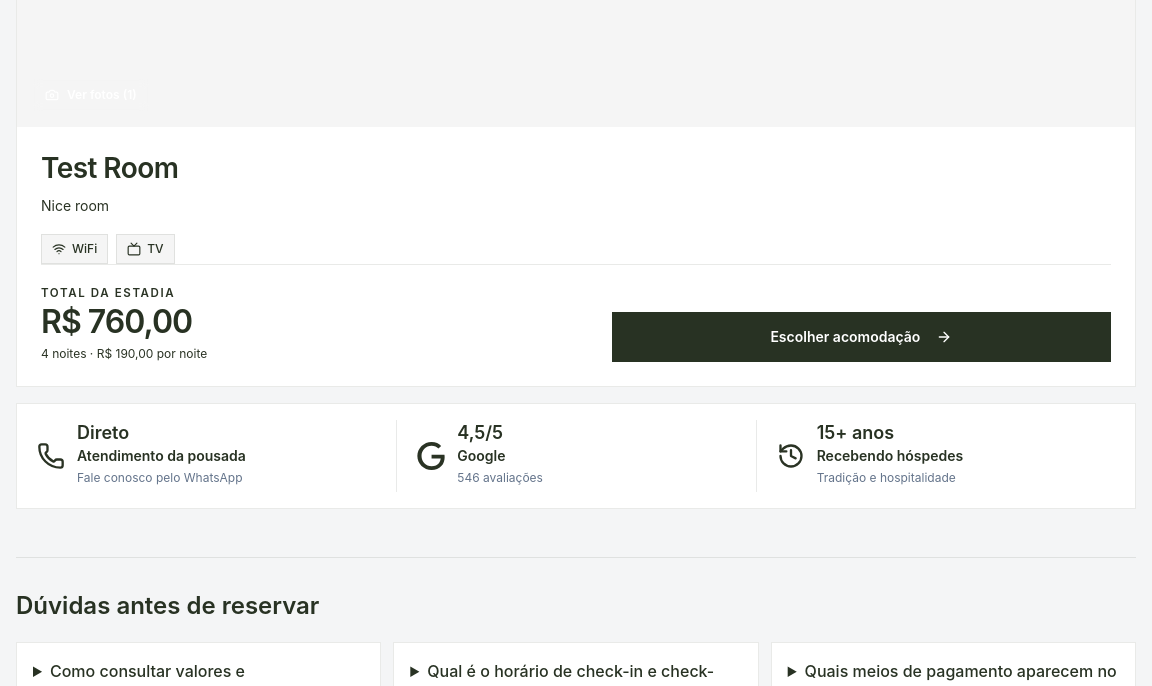
it: ReservarPage › should display price breakdown with extra adult and child fees
(page scrolled)
Expected: the heading "Test Room" is shown, [41,151,178,185]
Click to select room and show breakdown
Click the button "Escolher acomodação" at (861, 337), box [612,312,1111,362]
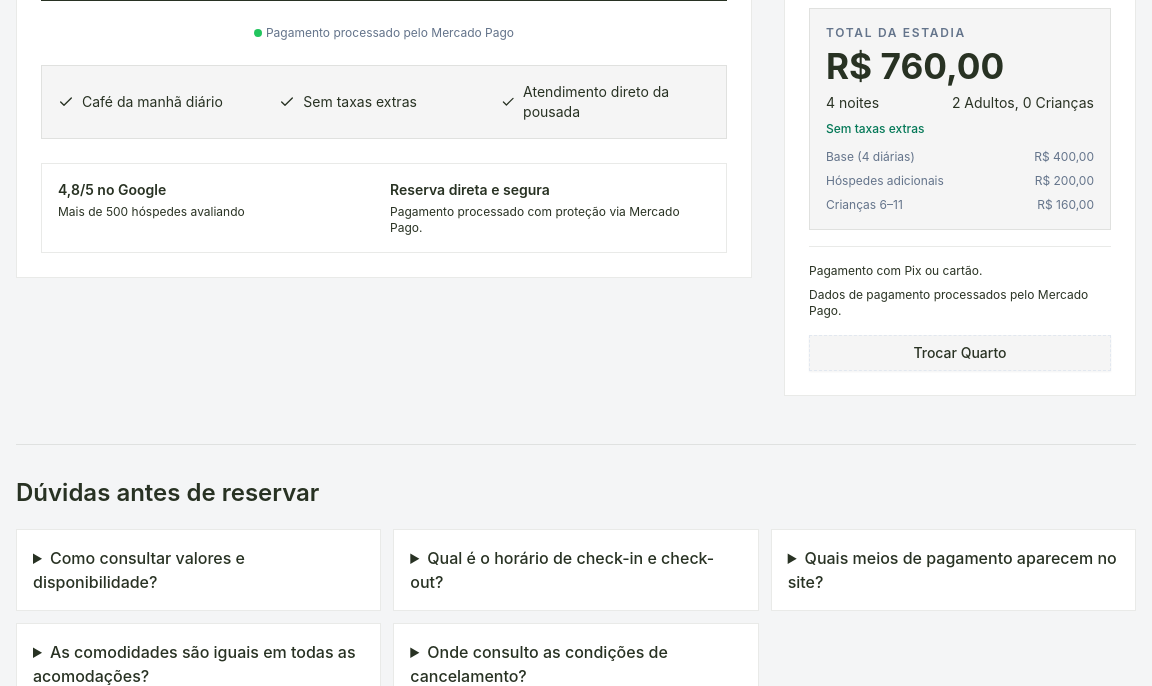
Expected: the text "Base (4 diárias)" is shown, [826,149,915,165]
Expected: the text "Hóspedes adicionais" is shown, [826,173,944,189]
Expected: the text "Crianças 6–11" is shown, [826,197,903,213]
